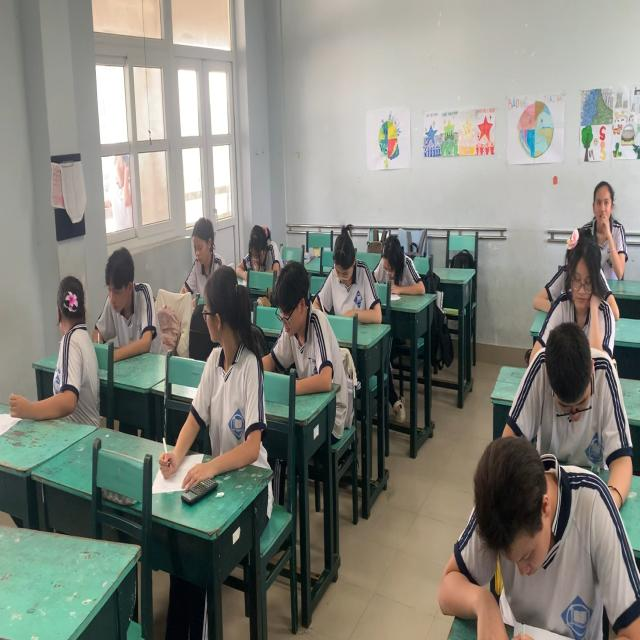cheating: (194, 261, 262, 457), (50, 270, 101, 426)
not_cheating: (453, 429, 635, 615), (526, 319, 612, 456), (272, 261, 336, 396), (103, 250, 157, 356), (560, 234, 609, 346), (327, 219, 373, 332), (585, 176, 623, 264), (380, 231, 415, 306), (187, 213, 220, 284), (243, 217, 278, 280)
